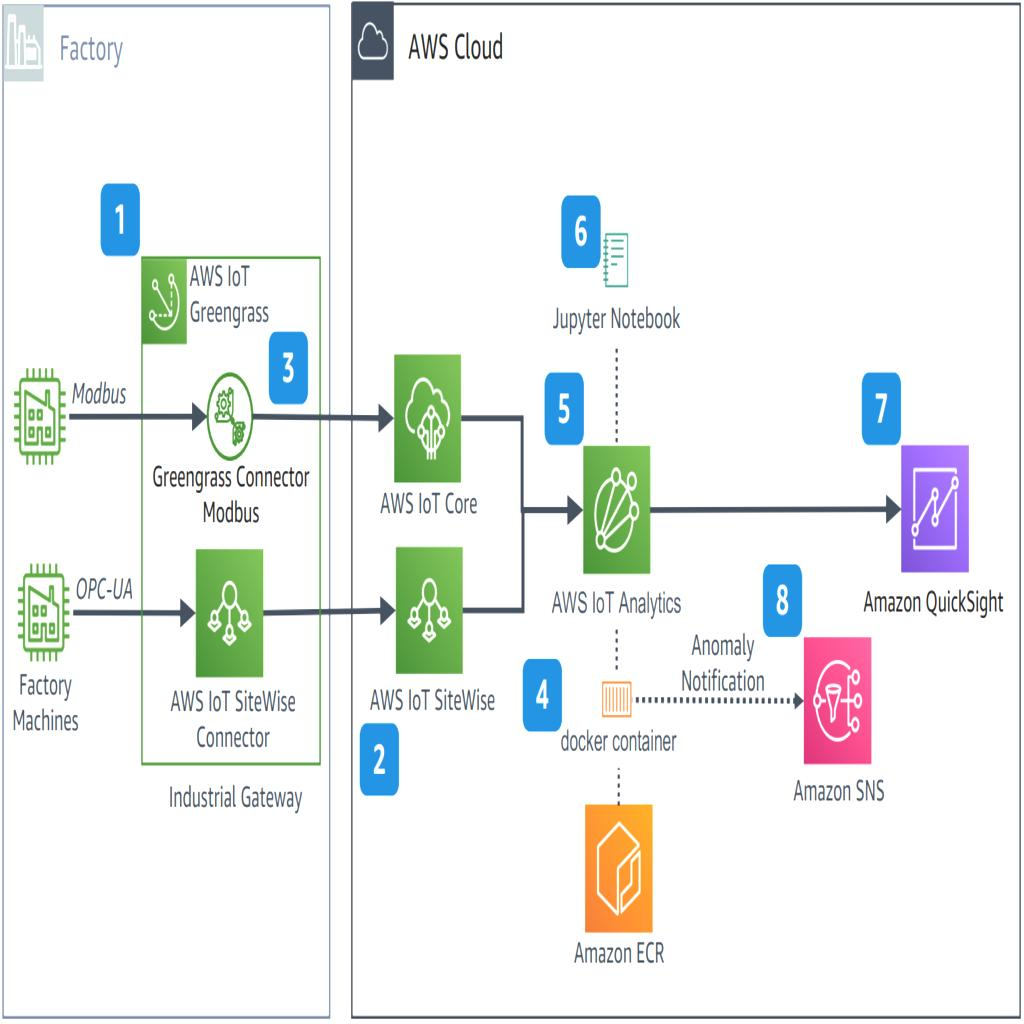actor: (13, 372, 71, 462), (13, 566, 71, 656)
compute: (202, 372, 260, 462), (202, 566, 260, 656), (398, 372, 456, 462), (398, 566, 456, 656), (586, 466, 644, 556), (586, 209, 644, 299), (586, 688, 644, 714)
data_flow: (644, 508, 892, 514), (486, 419, 500, 509), (486, 513, 500, 603), (260, 414, 406, 420), (260, 608, 406, 614), (646, 698, 792, 704), (70, 414, 188, 420), (70, 608, 188, 614), (612, 299, 618, 401), (612, 555, 618, 657), (612, 746, 618, 828), (500, 508, 544, 514)
database_storage: (586, 828, 644, 918), (906, 466, 964, 556)
network_security: (804, 656, 862, 746)
trust_boundary: (350, 4, 1022, 1018), (2, 4, 330, 1018), (142, 256, 320, 766)
